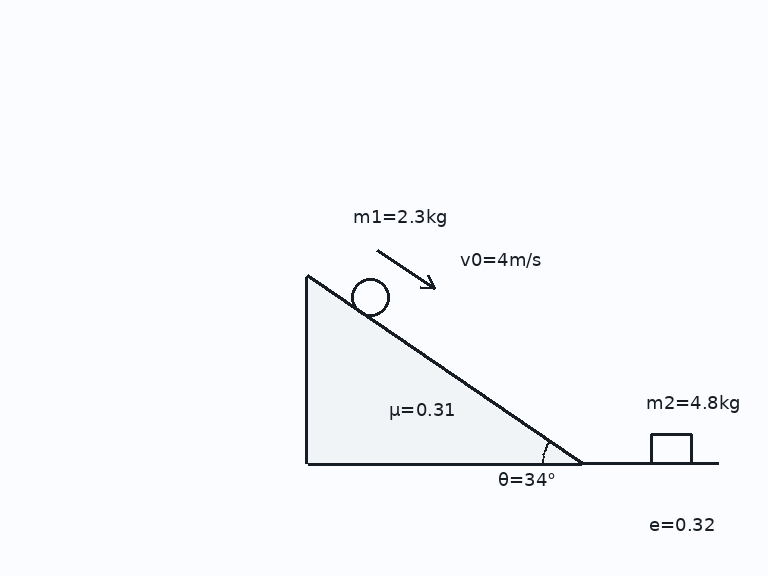ball: (349, 276, 391, 318)
block: (649, 432, 693, 465)
ramp: (304, 274, 585, 465)
